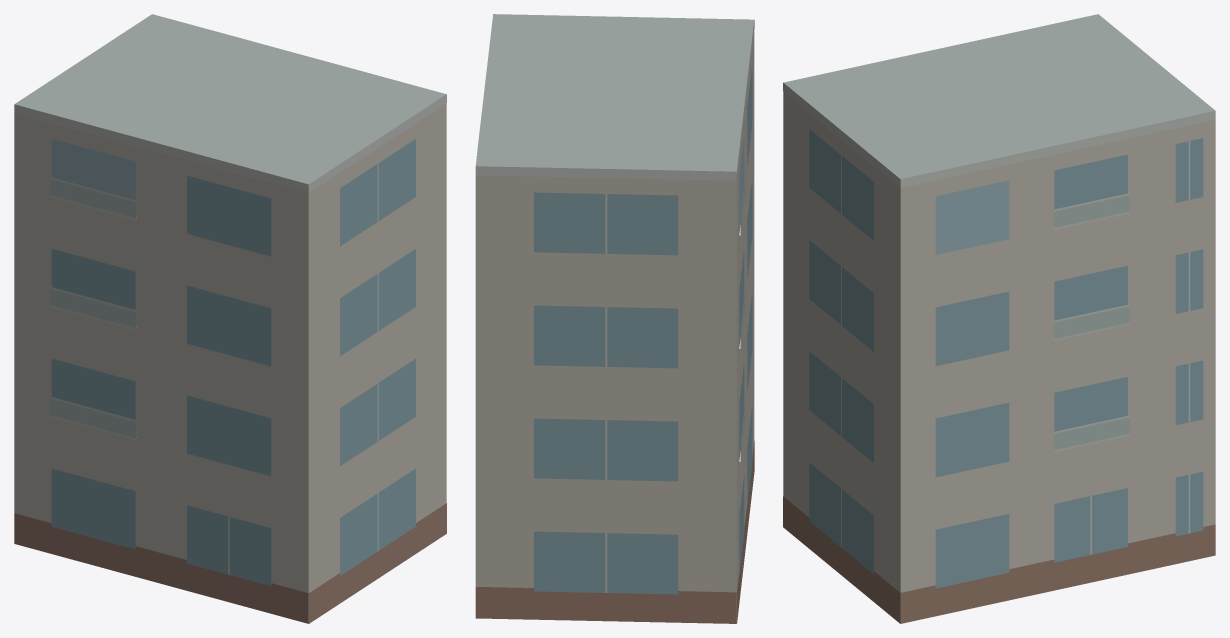
Rendered from residential-f2d7a451-d294-4225-b7b7-0070739c0d8c.glb.
3 renders of one model, left to right at view 1: azimuth 30°, elevation 25°; view 2: azimuth 150°, elevation 25°; view 3: azimuth 270°, elevation 25°, orthographic. The views are drawn at different scales.
Visible parts, largest first — view 1: residential-f2d7a451-d294-4225-b7b7-0070739c0d8c.tmp; view 2: residential-f2d7a451-d294-4225-b7b7-0070739c0d8c.tmp; view 3: residential-f2d7a451-d294-4225-b7b7-0070739c0d8c.tmp.
Part boxes in pixels (x1,y1,x2,y2): residential-f2d7a451-d294-4225-b7b7-0070739c0d8c.tmp: (14,14,446,623); residential-f2d7a451-d294-4225-b7b7-0070739c0d8c.tmp: (475,14,754,623); residential-f2d7a451-d294-4225-b7b7-0070739c0d8c.tmp: (783,14,1215,623).
Bounding box in the file's own units: 9.73 × 12.2 × 10.76.
